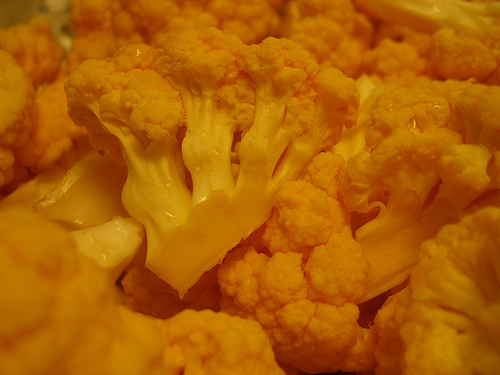cauliflower: (61, 25, 363, 299), (368, 206, 499, 374)
